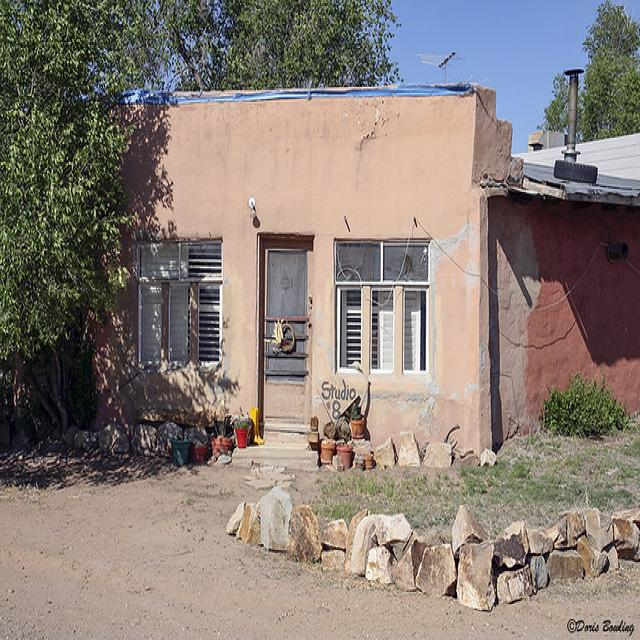Normal_building: (72, 74, 520, 476)
